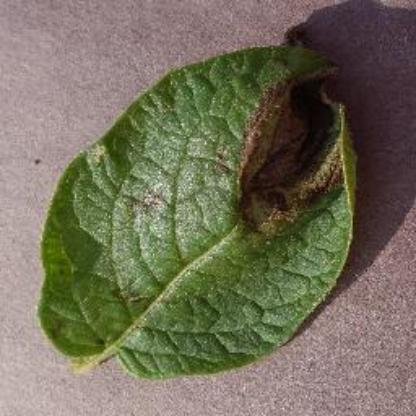Late-Blight: (39, 37, 373, 378)
